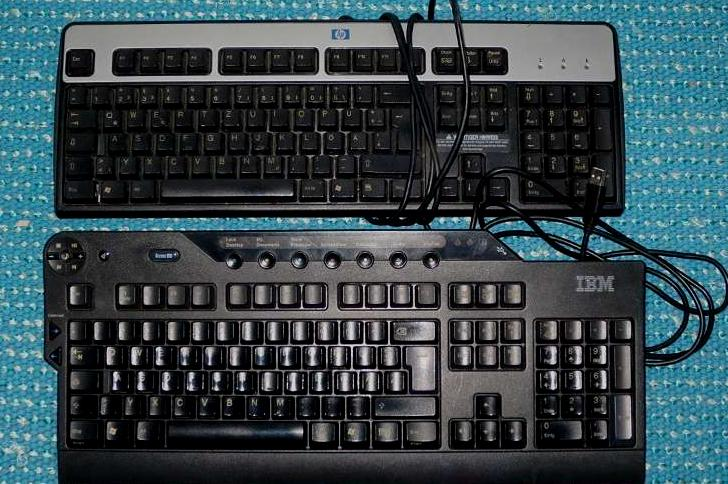0: (315, 320, 337, 342), (303, 81, 324, 104)
1: (90, 318, 109, 339), (89, 86, 110, 105)
2: (112, 84, 134, 105), (115, 318, 134, 340)
3: (140, 318, 160, 341), (136, 84, 157, 105)
4: (167, 319, 187, 341), (162, 83, 182, 104)
5: (184, 83, 204, 104), (190, 318, 209, 340)
6: (209, 82, 230, 105), (215, 319, 235, 341)
7: (232, 81, 253, 104), (240, 320, 261, 342)
8: (255, 81, 276, 105), (264, 318, 285, 340)
9: (279, 81, 300, 105), (290, 318, 310, 340)
a: (104, 131, 128, 151), (109, 367, 129, 390)
accent: (365, 321, 387, 343), (351, 81, 371, 103)
ae: (358, 368, 379, 390), (347, 129, 366, 149)
alt-left: (135, 420, 162, 443), (126, 178, 153, 198)
altgr-right: (308, 419, 335, 442), (298, 177, 324, 198)
b: (219, 393, 242, 416), (213, 153, 233, 174)
c: (171, 393, 191, 415), (165, 154, 184, 173)
caret: (67, 85, 86, 106), (68, 318, 85, 339)
comma: (295, 393, 316, 416), (286, 153, 306, 174)
d: (159, 368, 179, 390), (155, 131, 174, 151)
del: (388, 317, 435, 340), (376, 82, 424, 102)
e: (154, 345, 176, 367), (149, 107, 169, 127)
enter: (388, 103, 422, 150), (402, 342, 435, 390)
f: (183, 368, 203, 391), (178, 131, 197, 151)
g: (208, 368, 228, 390), (203, 130, 221, 150)
h: (232, 368, 253, 391), (226, 130, 246, 149)
hash: (383, 368, 404, 390), (369, 128, 389, 148)
i: (278, 345, 300, 367), (268, 107, 289, 126)
j: (259, 368, 277, 390), (250, 130, 269, 150)
k: (285, 371, 306, 393), (274, 131, 296, 151)
keyboard: (52, 269, 645, 461), (53, 19, 625, 216)
l: (311, 371, 332, 393), (298, 130, 318, 150)
less: (97, 392, 117, 415), (92, 153, 111, 174)
m: (270, 393, 292, 417), (262, 153, 281, 173)
minus: (347, 396, 369, 419), (334, 153, 353, 173)
n: (245, 393, 266, 416), (237, 153, 257, 174)
o: (303, 346, 325, 368), (292, 107, 312, 126)
oe: (333, 368, 354, 390), (322, 129, 342, 150)
p: (328, 346, 350, 368), (316, 106, 336, 125), (173, 108, 192, 126)
plus: (378, 345, 400, 367), (364, 106, 384, 126)
point: (320, 393, 342, 416), (310, 153, 330, 174)
q: (99, 107, 120, 127), (103, 343, 123, 364)
r: (180, 345, 200, 367), (176, 109, 195, 127)
s: (134, 368, 154, 390), (130, 131, 149, 149)
shift-left: (62, 154, 90, 176), (67, 393, 95, 415)
shift-lock: (63, 130, 95, 151), (68, 368, 100, 389)
shift-right: (359, 152, 422, 175), (370, 393, 435, 415)
space: (164, 417, 304, 448), (158, 177, 295, 196)
ss: (327, 80, 348, 104), (341, 320, 363, 342)
strg-left: (66, 418, 98, 440), (61, 178, 92, 200)
strg-right: (402, 418, 437, 442), (389, 179, 422, 200)
t: (204, 346, 224, 368), (199, 108, 218, 126)
tab: (67, 343, 98, 365), (64, 108, 95, 128)
u: (253, 345, 275, 367), (244, 107, 264, 126)
ue: (353, 346, 375, 368), (340, 106, 360, 126)
v: (195, 394, 217, 415), (190, 154, 209, 173)
w: (128, 343, 150, 366), (125, 108, 144, 127)
x: (146, 393, 165, 414), (141, 154, 160, 174)
y: (117, 154, 136, 174), (122, 392, 139, 414)
z: (229, 346, 249, 367), (224, 108, 242, 126)
